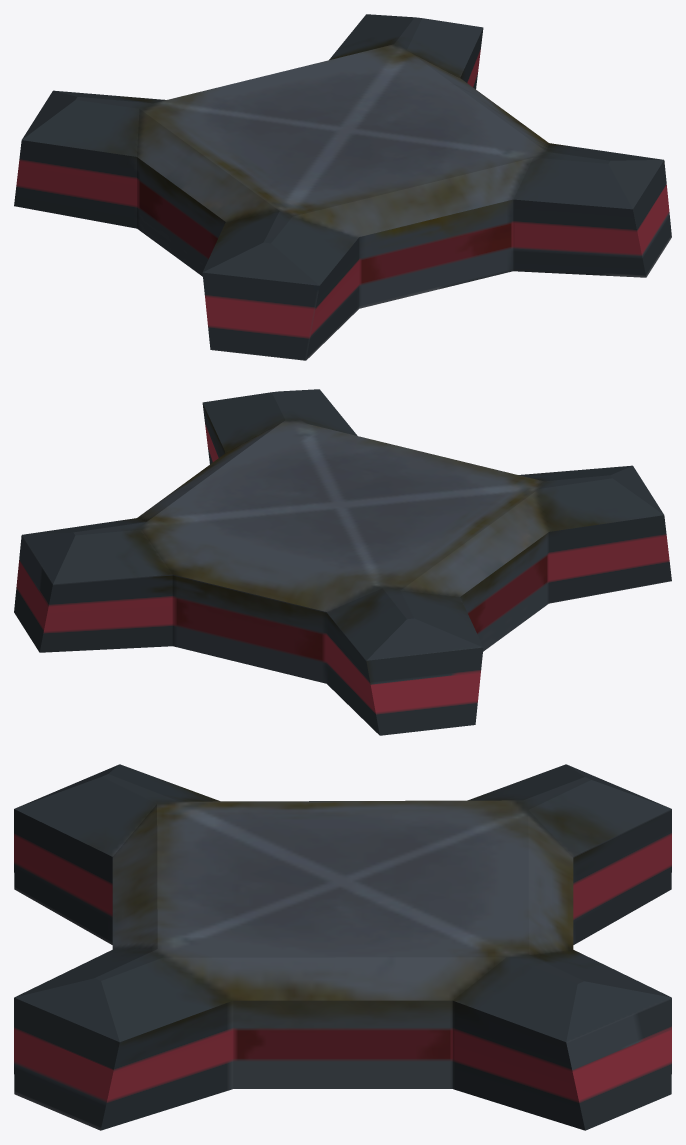
The model's file is mesh_enemy_base.fbx.
3 renders of one model, top to bottom at view 1: azimuth 30°, elevation 25°; view 2: azimuth 150°, elevation 25°; view 3: azimuth 270°, elevation 25°, orthographic. The views are drawn at different scales.
Parts seen in each view (by area): view 1: harpoon_base; view 2: harpoon_base; view 3: harpoon_base.
Boxes of the visible parts, x1,y1,x2,y2 form: harpoon_base: (14,14,671,360); harpoon_base: (14,389,671,735); harpoon_base: (14,764,671,1130).
Bounding box in the file's own units: 2.56 × 0.4835 × 2.56.
